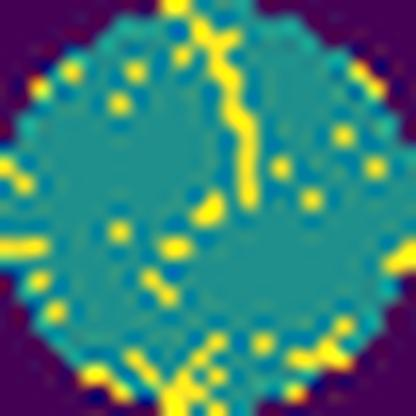Scratch: (157, 0, 265, 215)
